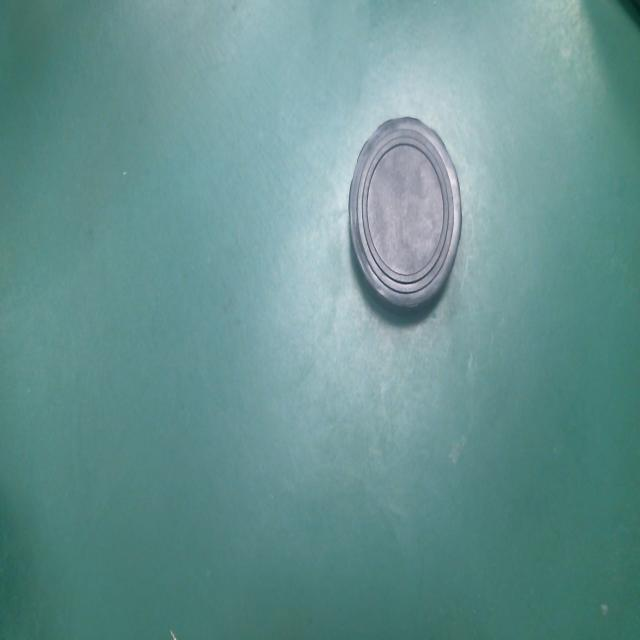cover: (346, 117, 464, 329)
